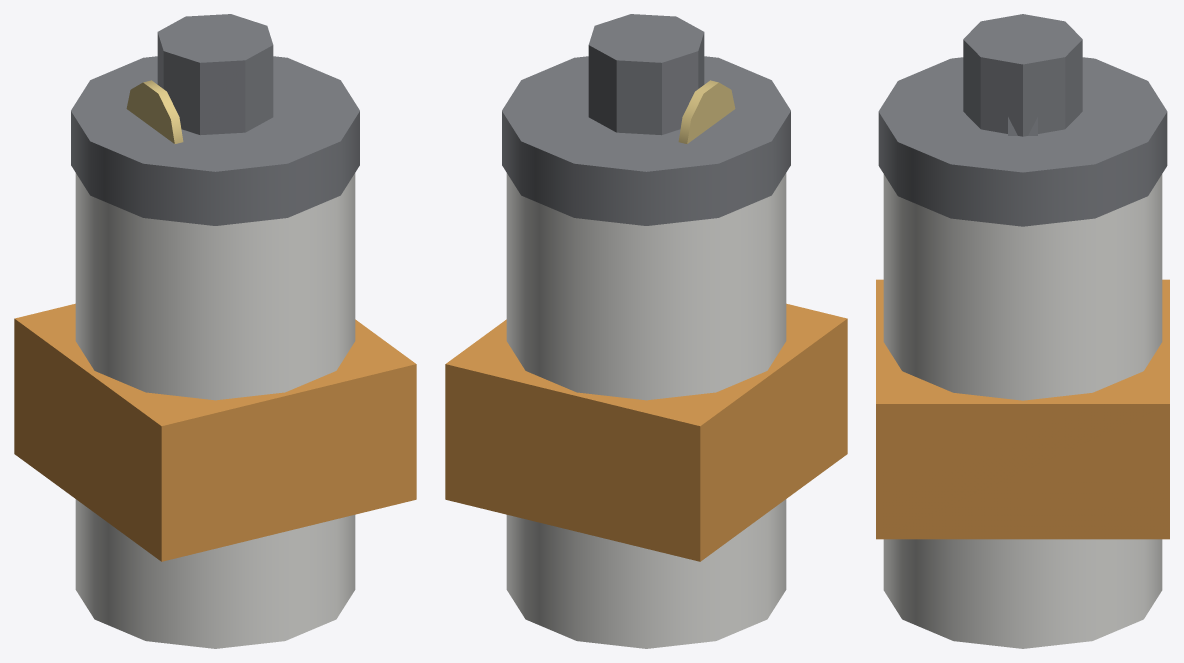
File: smoke.glb
3 renders of one model, left to right at view 1: azimuth 30°, elevation 25°; view 2: azimuth 150°, elevation 25°; view 3: azimuth 270°, elevation 25°, orthographic.
Visible parts, largest first — view 1: nade_smoke; view 2: nade_smoke; view 3: nade_smoke.
Boxes of the visible parts, box(x1,y1,x2,y2) form: nade_smoke: box(14, 14, 416, 648); nade_smoke: box(445, 14, 847, 648); nade_smoke: box(876, 14, 1169, 648).
Size of what is drawn, in the model's own units: 0.059 by 0.122 by 0.059.
